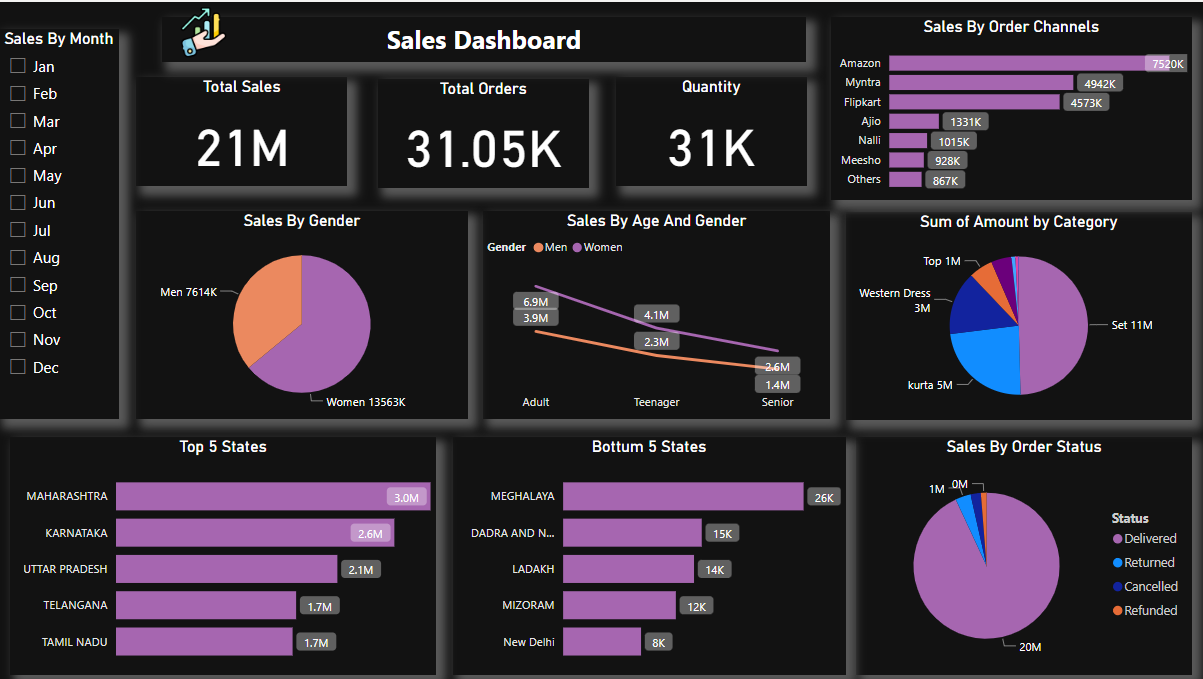

What the dashboard file says about the page in this screenshot:
{"tool":"powerbi","page":{"name":"Page 1","canvas":[1280,720],"ordinal":0},"visuals":[{"type":"barChart","title":"Bottum 5 States","fields":{"Category":["Vrinda Store.ship-state"],"Y":["Sum(Vrinda Store.Amount)"]},"box":[481.6,460.9,416.4,252.7],"z":0},{"type":"pieChart","title":"Sales By Gender","fields":{"Category":["Vrinda Store.Gender"],"Y":["Sum(Vrinda Store.Amount)"]},"box":[146.2,220.9,351.3,220.9],"z":1000},{"type":"barChart","title":"Top 5 States","fields":{"Y":["Sum(Vrinda Store.Amount)"],"Category":["Vrinda Store.ship-state"]},"box":[12.7,460.9,451.4,252.7],"z":2000},{"type":"clusteredColumnChart","title":"Sales By Age And Gender","fields":{"Series":["Vrinda Store.Gender"],"Y":["Sum(Vrinda Store.Amount)"],"Category":["Vrinda Store.Age Group"]},"box":[513.4,220.9,368.7,220.9],"z":3000},{"type":"card","title":"Total Sales","fields":{"Values":["Sum(Vrinda Store.Amount)"]},"box":[146.2,79.5,224.1,116],"z":4000},{"type":"card","title":"Total Orders","fields":{"Values":["CountNonNull(Vrinda Store.Order ID)"]},"box":[402.1,81.1,224.1,116],"z":5000},{"type":"card","title":"Quantity","fields":{"Values":["Sum(Vrinda Store.Qty)"]},"box":[654.8,79.5,201.9,116],"z":6000},{"type":"slicer","title":"Sales By Month","fields":{"Values":["date.month"]},"box":[0,28.6,128.7,413.2],"z":7000},{"type":"barChart","title":"Sales By Order Channels","fields":{"Category":["Vrinda Store.Channel "],"Y":["Sum(Vrinda Store.Amount)"]},"box":[882.1,15.9,383,193.9],"z":8000},{"type":"pieChart","title":"Sales By Order Status","fields":{"Category":["Vrinda Store.Status"],"Y":["Sum(Vrinda Store.Amount)"]},"box":[909.1,460.9,356,252.7],"z":9000},{"type":"pieChart","fields":{"Category":["Vrinda Store.Category"],"Y":["Sum(Vrinda Store.Amount)"]},"box":[898,222.5,367.2,220.9],"z":10000},{"type":"textbox","box":[173.2,15.9,683.4,47.7],"z":11000},{"type":"image","box":[176.4,0,82.6,63.6],"z":12000}]}

Visuals, with their boxes in screenshot pixels (x1, y1, x2, y2), scaled from the page's 1280x720 canvas onto the 1203x679 screenshot:
"Bottum 5 States" barChart: bbox=[453, 435, 844, 673]
"Sales By Gender" pieChart: bbox=[137, 208, 468, 417]
"Top 5 States" barChart: bbox=[12, 435, 436, 673]
"Sales By Age And Gender" clusteredColumnChart: bbox=[483, 208, 829, 417]
"Total Sales" card: bbox=[137, 75, 348, 184]
"Total Orders" card: bbox=[378, 76, 589, 186]
"Quantity" card: bbox=[615, 75, 805, 184]
"Sales By Month" slicer: bbox=[0, 27, 121, 417]
"Sales By Order Channels" barChart: bbox=[829, 15, 1189, 198]
"Sales By Order Status" pieChart: bbox=[854, 435, 1189, 673]
pieChart - Vrinda Store.Category x Sum(Vrinda Store.Amount): bbox=[844, 210, 1189, 418]
textbox: bbox=[163, 15, 805, 60]
image: bbox=[166, 0, 243, 60]
